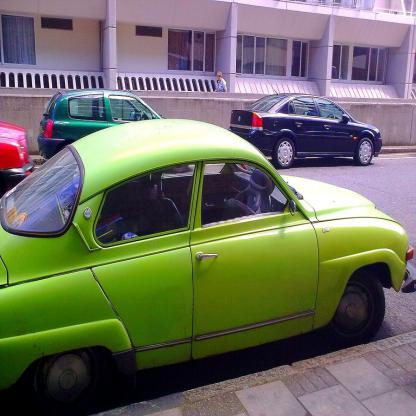Car: (0, 118, 415, 415), (228, 94, 382, 166), (37, 89, 164, 159)
